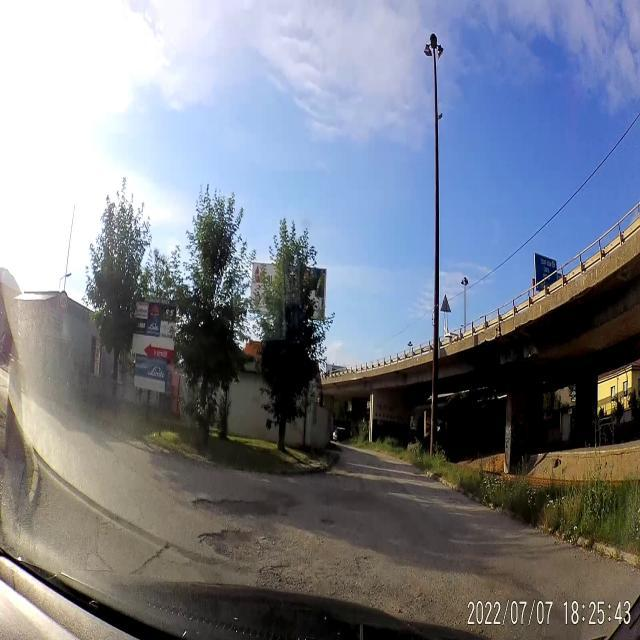Pothole: (198, 524, 264, 572), (192, 489, 278, 523), (315, 512, 340, 535)
